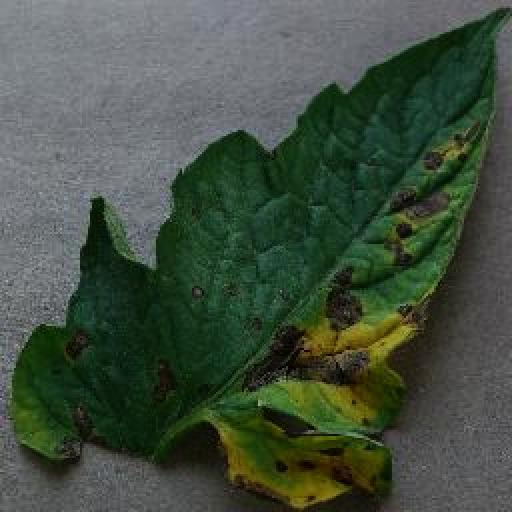disease_tomato: (14, 8, 512, 512)
